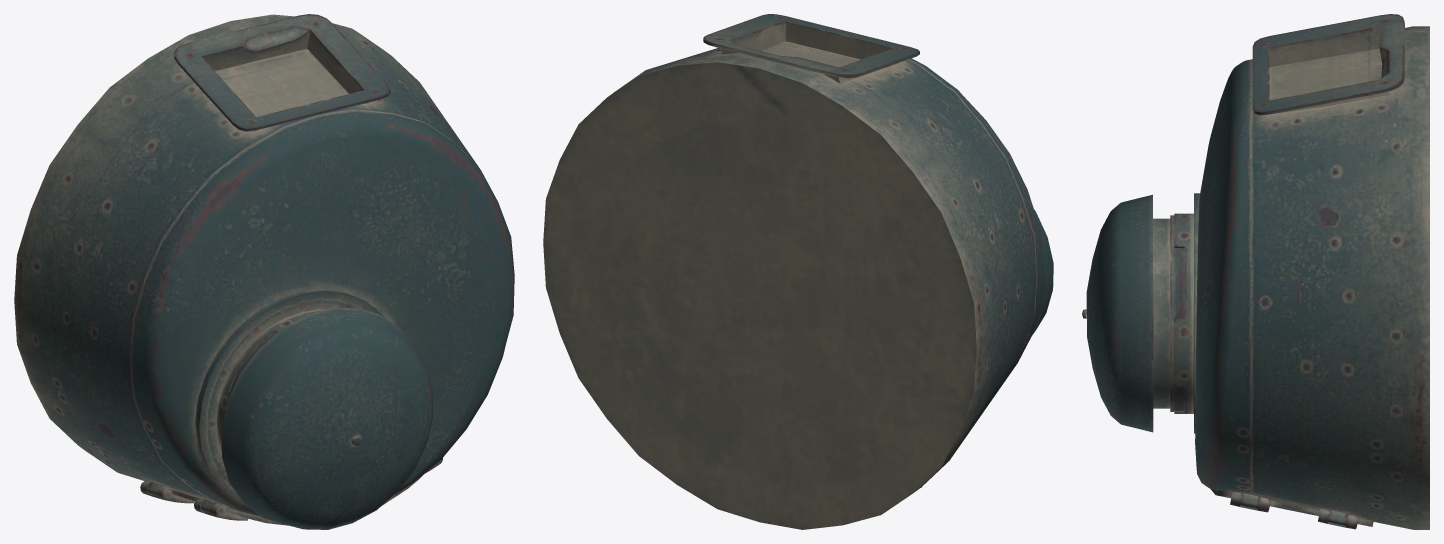
The model's file is Turret_01.glb.
3 views of the same model, side by side, from view 1: azimuth 30°, elevation 25°; view 2: azimuth 150°, elevation 25°; view 3: azimuth 270°, elevation 25° (orthographic).
Parts seen in each view (by area): view 1: set_0_group_0; view 2: set_0_group_0; view 3: set_0_group_0.
Boxes of the visible parts, bbox=[...] form: set_0_group_0: bbox=[14, 14, 514, 529]; set_0_group_0: bbox=[543, 14, 1053, 529]; set_0_group_0: bbox=[1082, 14, 1429, 529].
Size of the model in its own units: 1.19 by 1.2 by 0.8244.
Materials: 1 (1 with a texture image).
